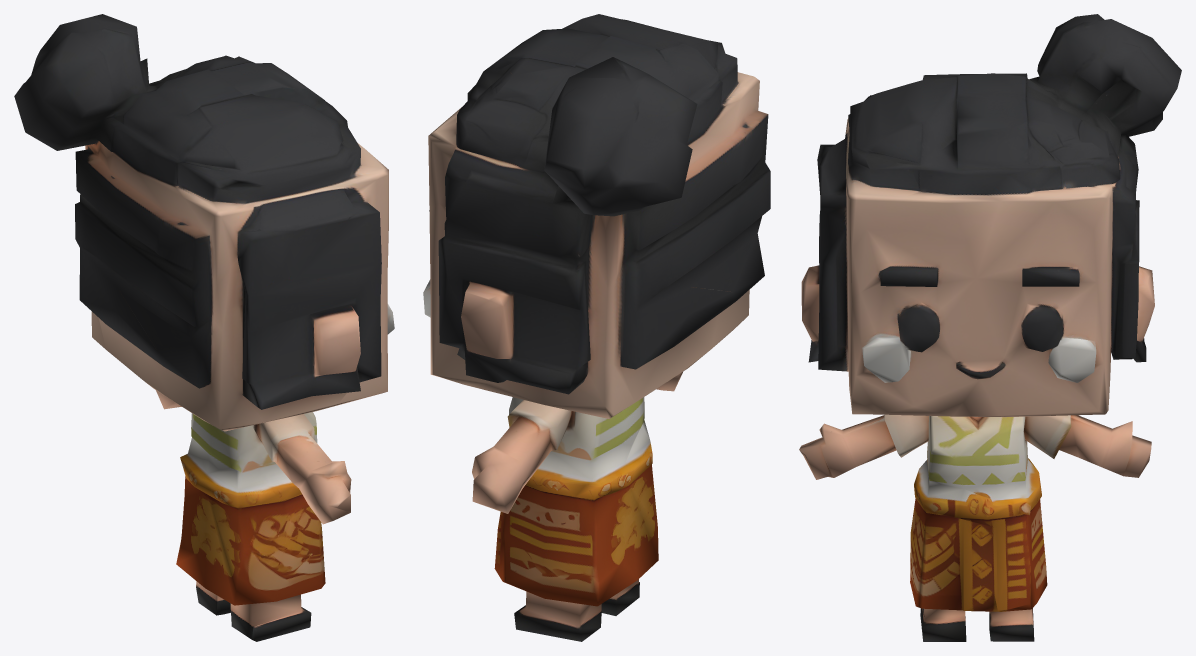
Rendered from burmese-woman.glb.
3 renders of one model, left to right at view 1: azimuth 30°, elevation 25°; view 2: azimuth 150°, elevation 25°; view 3: azimuth 270°, elevation 25°, orthographic. The views are drawn at different scales.
Parts seen in each view (by area): view 1: tripo_node_5ad79d11-3a77-4a41-8daa-42200563f3c2; view 2: tripo_node_5ad79d11-3a77-4a41-8daa-42200563f3c2; view 3: tripo_node_5ad79d11-3a77-4a41-8daa-42200563f3c2.
Boxes of the visible parts, x1,y1,x2,y2 form: tripo_node_5ad79d11-3a77-4a41-8daa-42200563f3c2: (14,14,394,641); tripo_node_5ad79d11-3a77-4a41-8daa-42200563f3c2: (423,14,770,641); tripo_node_5ad79d11-3a77-4a41-8daa-42200563f3c2: (799,14,1181,641).
Size of the model in its own units: 0.4559 by 1 by 0.6192.
1 material, 1 textured.
